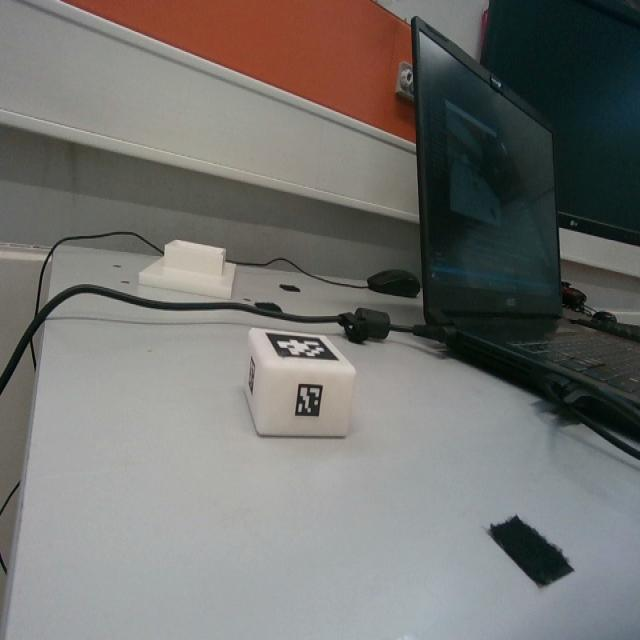Cube: (243, 324, 355, 436)
